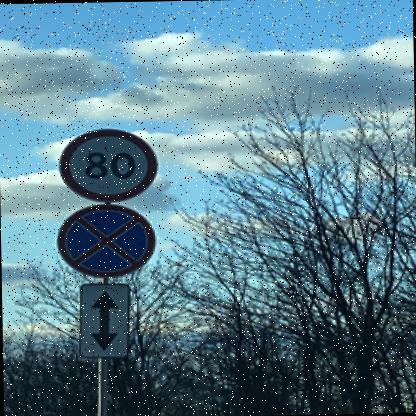speedlimit: (55, 126, 156, 201)
